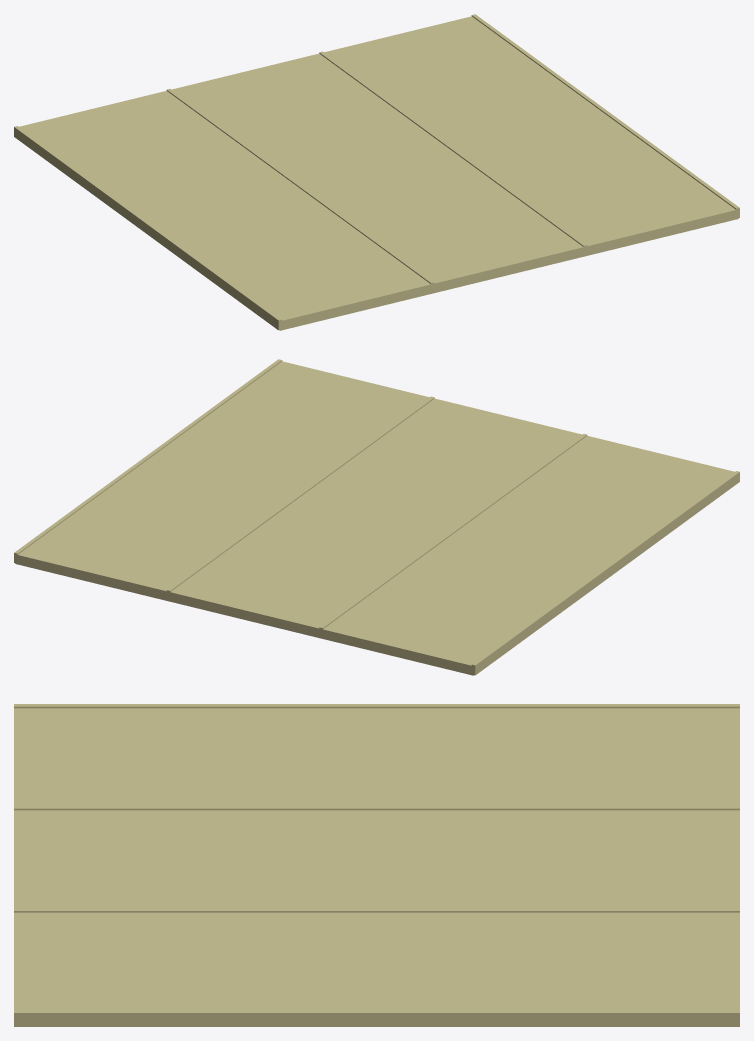
The model's file is PR_carpet_tile_L0.fbx.
The picture shows the model from 3 angles, top to bottom: view 1: azimuth 30°, elevation 25°; view 2: azimuth 150°, elevation 25°; view 3: azimuth 270°, elevation 25°; orthographic projection. The views are drawn at different scales.
Parts seen in each view (by area): view 1: PR_carpet_tile_L0; view 2: PR_carpet_tile_L0; view 3: PR_carpet_tile_L0.
Part boxes in pixels (x1,y1,x2,y2): PR_carpet_tile_L0: (14, 14, 739, 330); PR_carpet_tile_L0: (14, 359, 739, 675); PR_carpet_tile_L0: (14, 704, 739, 1026).
Bounding box in the file's own units: 1.01 × 0.0225 × 1.
